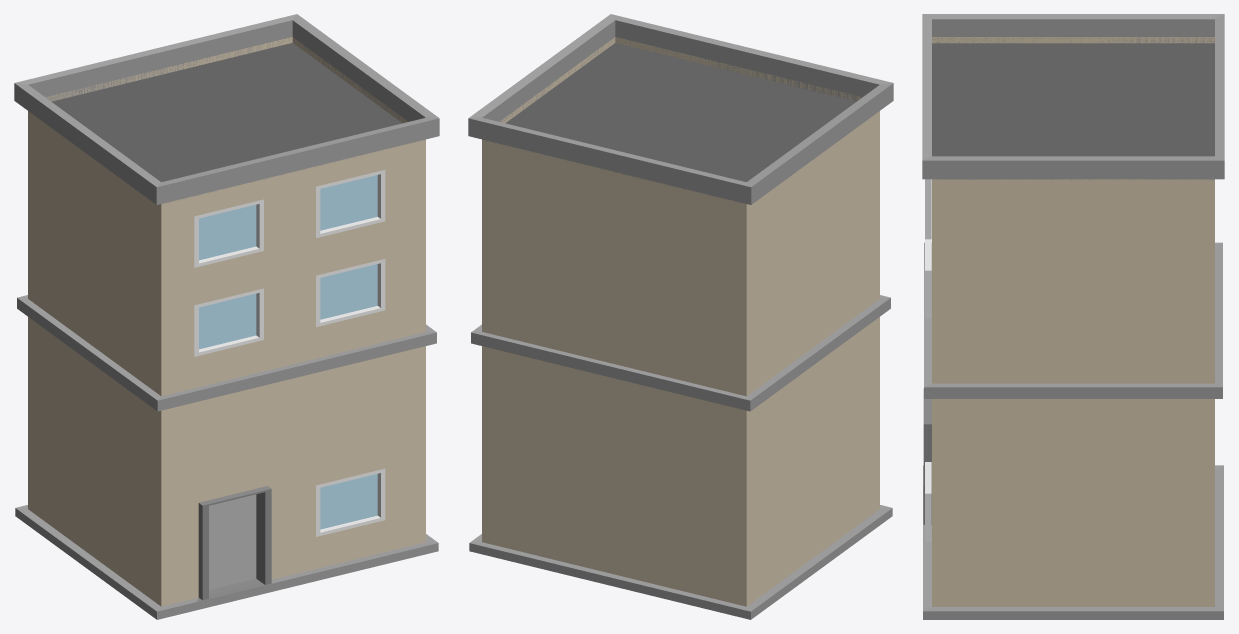
The model's file is single-building.glb.
The picture shows the model from 3 angles, left to right: view 1: azimuth 30°, elevation 25°; view 2: azimuth 150°, elevation 25°; view 3: azimuth 270°, elevation 25°; orthographic projection. The views are drawn at different scales.
Visible parts, largest first — view 1: Cube, Plane.003, Plane, Plane.004, Plane.001, Plane.002; view 2: Cube; view 3: Cube, Plane, Plane.001.
Boxes of the visible parts, left/top/right/bottom form: Cube: left=14, top=14, right=439, bottom=619; Plane.003: left=194, top=288, right=263, bottom=356; Plane: left=316, top=468, right=385, bottom=536; Plane.004: left=194, top=199, right=263, bottom=267; Plane.001: left=316, top=259, right=385, bottom=326; Plane.002: left=316, top=170, right=385, bottom=237; Cube: left=468, top=14, right=893, bottom=619; Cube: left=922, top=14, right=1224, bottom=619; Plane: left=925, top=462, right=931, bottom=541; Plane.001: left=925, top=239, right=931, bottom=318.
Size of the model in its own units: 8.13 by 11.89 by 7.09.
2 materials, 2 textured.
